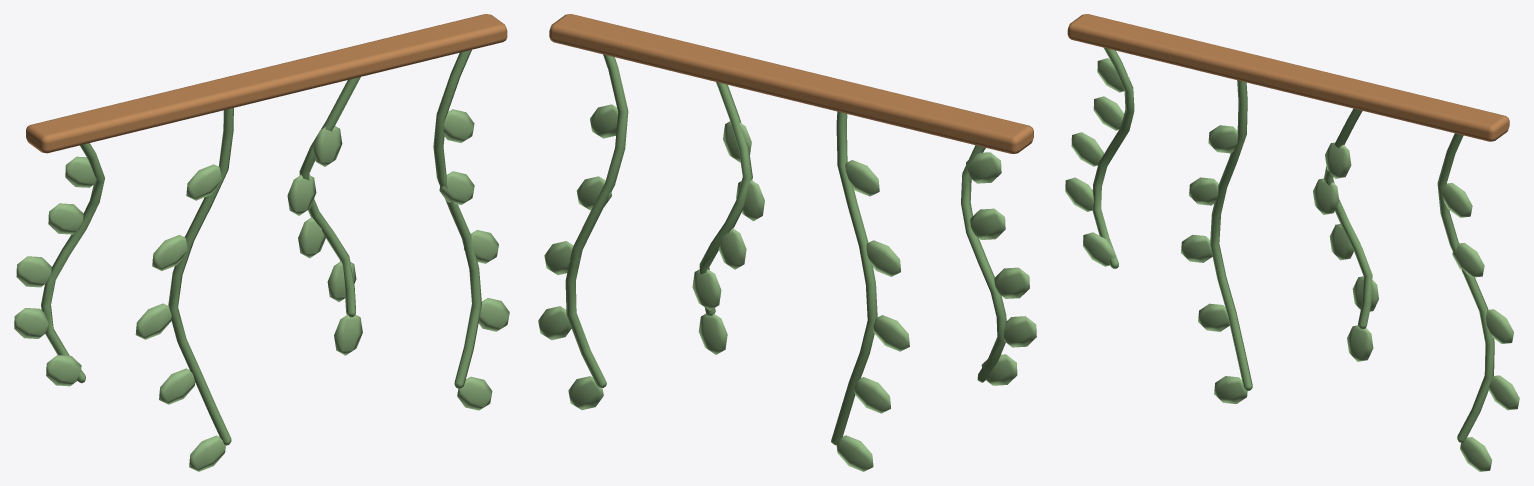
File: ivy_vine_garland.glb
The picture shows the model from 3 angles, left to right: view 1: azimuth 30°, elevation 25°; view 2: azimuth 150°, elevation 25°; view 3: azimuth 330°, elevation 25°; orthographic projection. The views are drawn at different scales.
Parts seen in each view (by area): view 1: ivy_vine_garland_mesh; view 2: ivy_vine_garland_mesh; view 3: ivy_vine_garland_mesh.
Boxes of the visible parts, x1,y1,x2,y2 form: ivy_vine_garland_mesh: (14, 14, 509, 471); ivy_vine_garland_mesh: (538, 14, 1036, 471); ivy_vine_garland_mesh: (1065, 14, 1519, 471).
Bounding box in the file's own units: 0.8496 × 0.6324 × 0.06.
